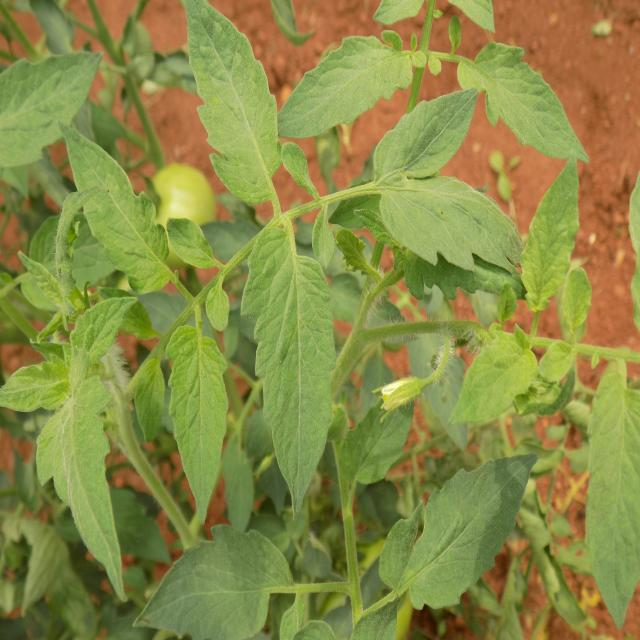tomato_healthy: (240, 216, 333, 512), (385, 443, 543, 617), (178, 0, 285, 214), (60, 115, 178, 296), (34, 380, 128, 600), (268, 22, 422, 142), (136, 520, 288, 640), (452, 38, 590, 169), (369, 176, 527, 277), (517, 146, 586, 326), (162, 322, 228, 509), (368, 91, 480, 182), (438, 330, 538, 425)
